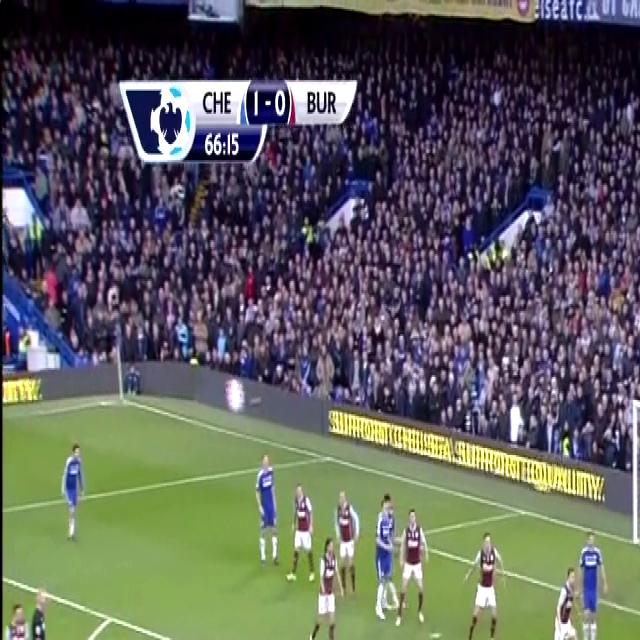referee: (23, 579, 53, 640)
soccer-player: (455, 515, 506, 640), (396, 501, 434, 635), (571, 514, 610, 640), (367, 485, 399, 630), (299, 533, 342, 640), (250, 447, 285, 575), (541, 553, 588, 640), (332, 479, 364, 606), (285, 472, 318, 587), (58, 431, 90, 549), (2, 592, 33, 640)
